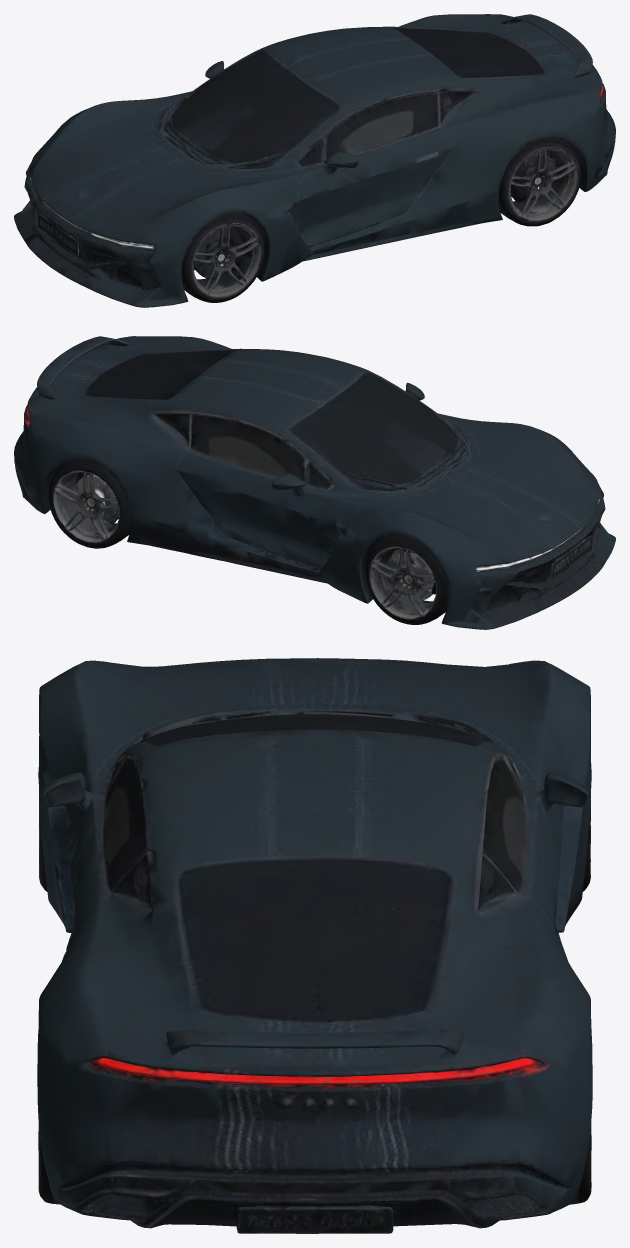
File: neon-coupe.glb
3 renders of one model, top to bottom at view 1: azimuth 30°, elevation 25°; view 2: azimuth 150°, elevation 25°; view 3: azimuth 270°, elevation 25°, orthographic. The views are drawn at different scales.
Bounding box in the file's own units: 1.9 × 0.5151 × 0.858.
1 material, 1 textured.
